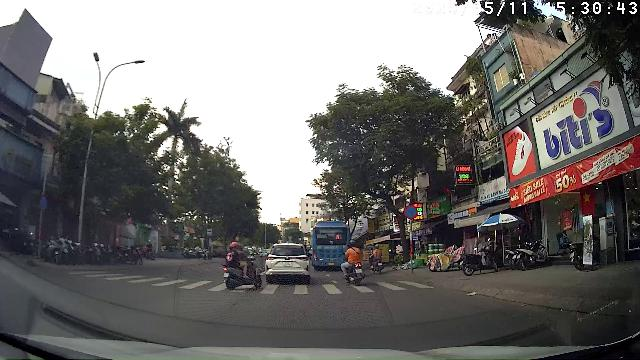131a-cam-do-xe: (404, 204, 418, 220)
